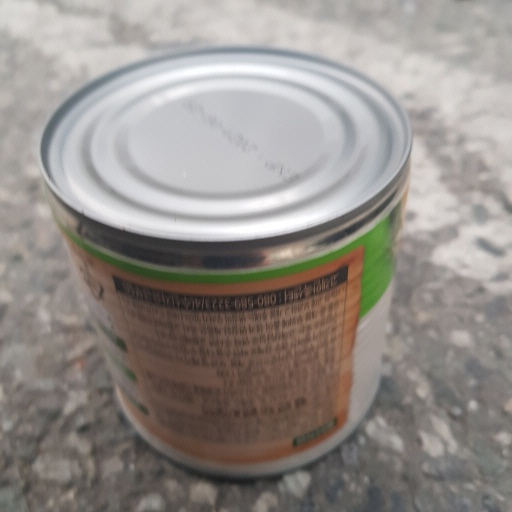Metal_1: (33, 47, 416, 472)
